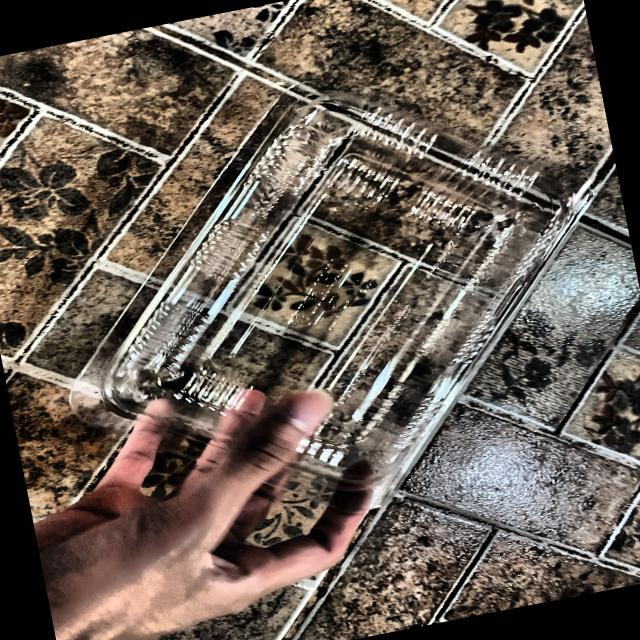plastic container: (55, 39, 640, 582)
